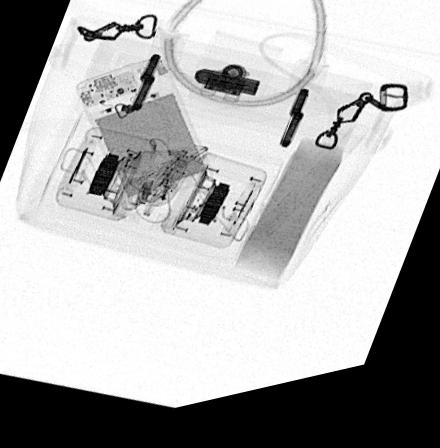Powerbank: (72, 62, 211, 213)
